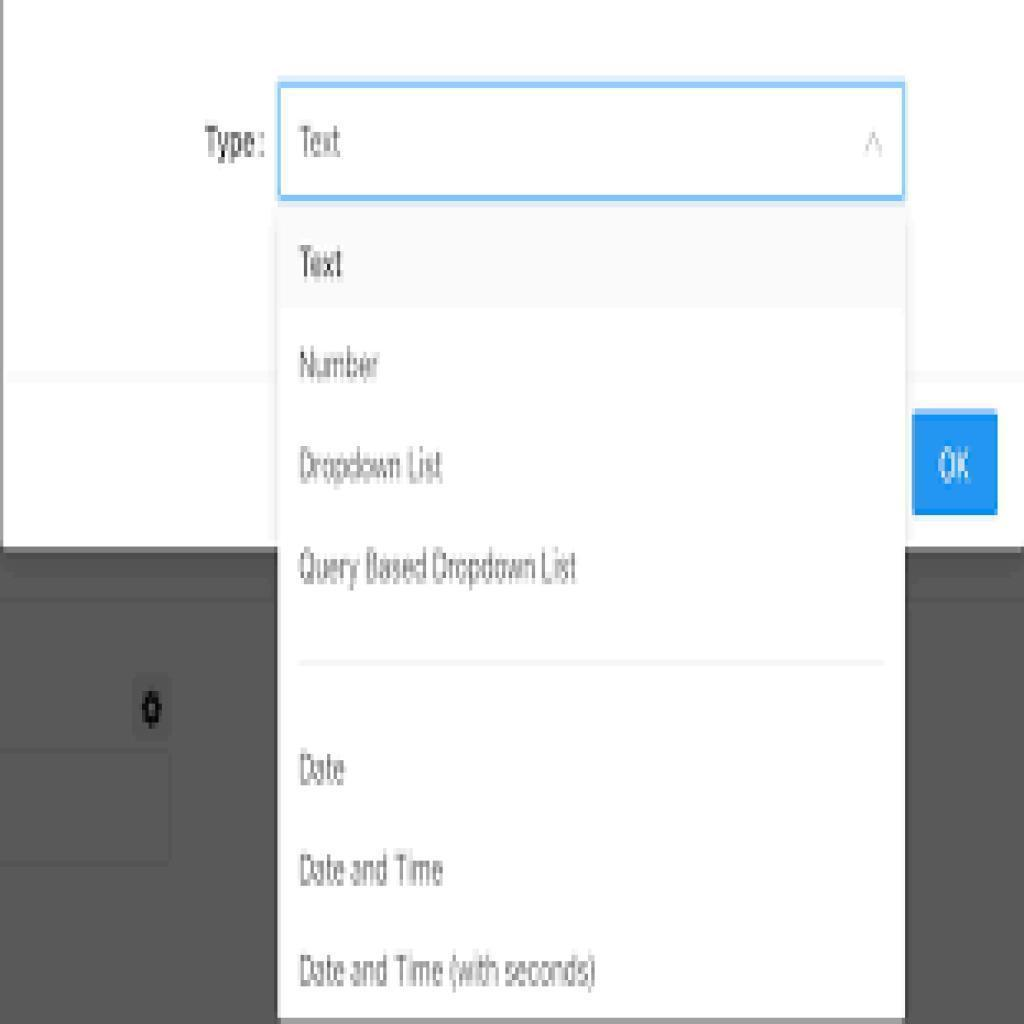button: (914, 410, 995, 515)
dropdown: (277, 79, 905, 198)
icon: (134, 676, 171, 741)
label: (294, 541, 584, 595), (294, 949, 597, 1000), (296, 440, 445, 491), (294, 845, 446, 892), (290, 339, 385, 387), (200, 117, 270, 162), (290, 746, 349, 786), (296, 239, 347, 285)
